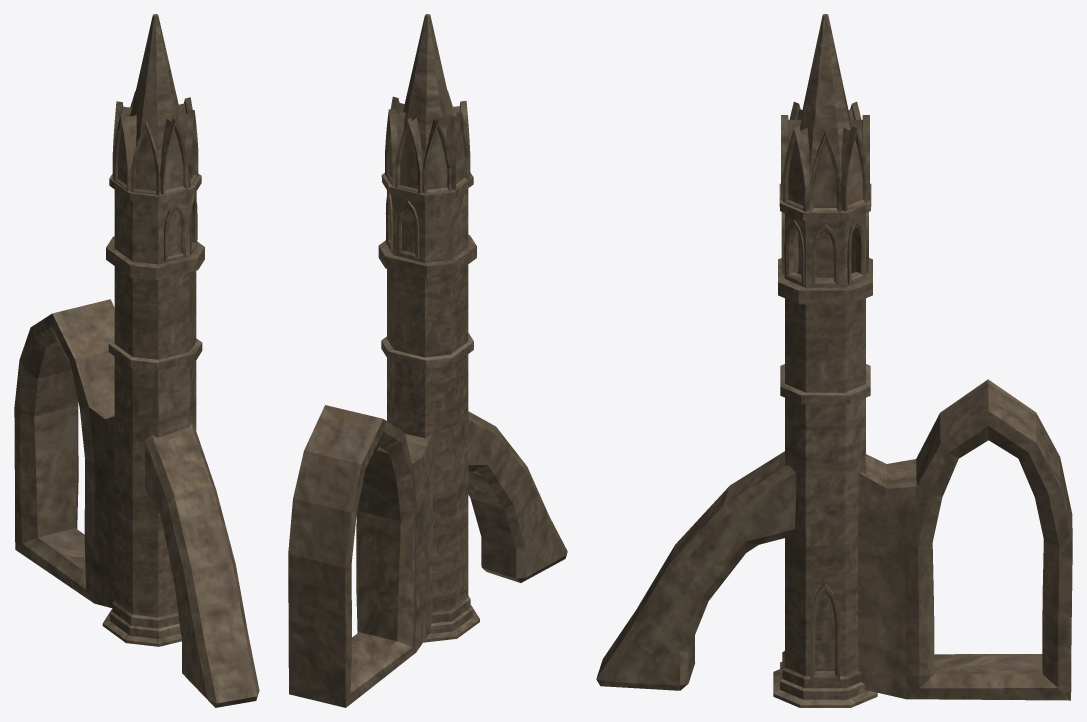
The model's file is TowerFull.glb.
3 renders of one model, left to right at view 1: azimuth 30°, elevation 25°; view 2: azimuth 150°, elevation 25°; view 3: azimuth 270°, elevation 25°, orthographic. The views are drawn at different scales.
Visible parts, largest first — view 1: Tower, Arch, Half arch; view 2: Tower, Arch, Half arch; view 3: Tower, Arch, Half arch.
Boxes of the visible parts, box(x1,y1,x2,y2) form: Tower: box(102, 14, 204, 646); Arch: box(14, 299, 114, 607); Half arch: box(145, 422, 259, 707); Tower: box(378, 14, 479, 642); Arch: box(288, 405, 432, 707); Half arch: box(468, 411, 567, 582); Tower: box(773, 14, 877, 707); Arch: box(858, 379, 1072, 700); Half arch: box(596, 451, 795, 690).
Size of the model in its own units: 2.66 by 18.28 by 11.75.
Materials: 1 (1 with a texture image).
